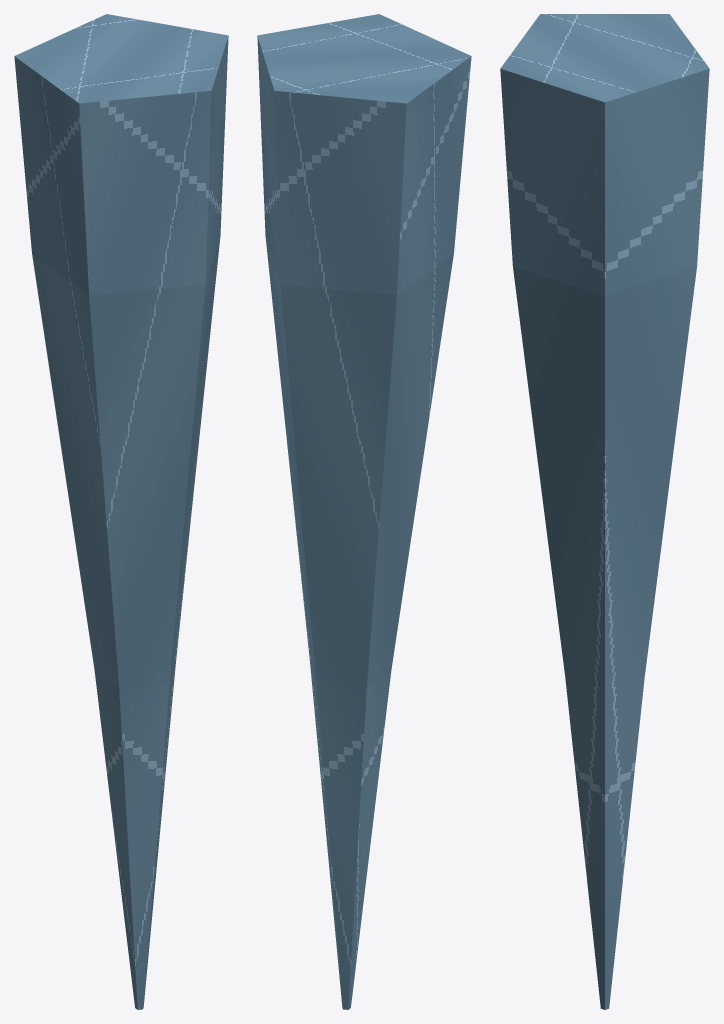
Rendered from icicle_long.glb.
3 views of the same model, side by side, from view 1: azimuth 30°, elevation 25°; view 2: azimuth 150°, elevation 25°; view 3: azimuth 270°, elevation 25° (orthographic).
Visible parts, largest first — view 1: icicle_long; view 2: icicle_long; view 3: icicle_long.
Part boxes in pixels (x1=…): icicle_long: x1=14, y1=14, x2=228, y2=1009; icicle_long: x1=257, y1=14, x2=471, y2=1009; icicle_long: x1=500, y1=14, x2=709, y2=1009.
Size of the model in its own units: 0.13 by 0.65 by 0.13.
Materials: 1 (1 with a texture image).
